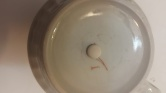Yuvarlak Buskopan: (85, 43, 102, 60)
